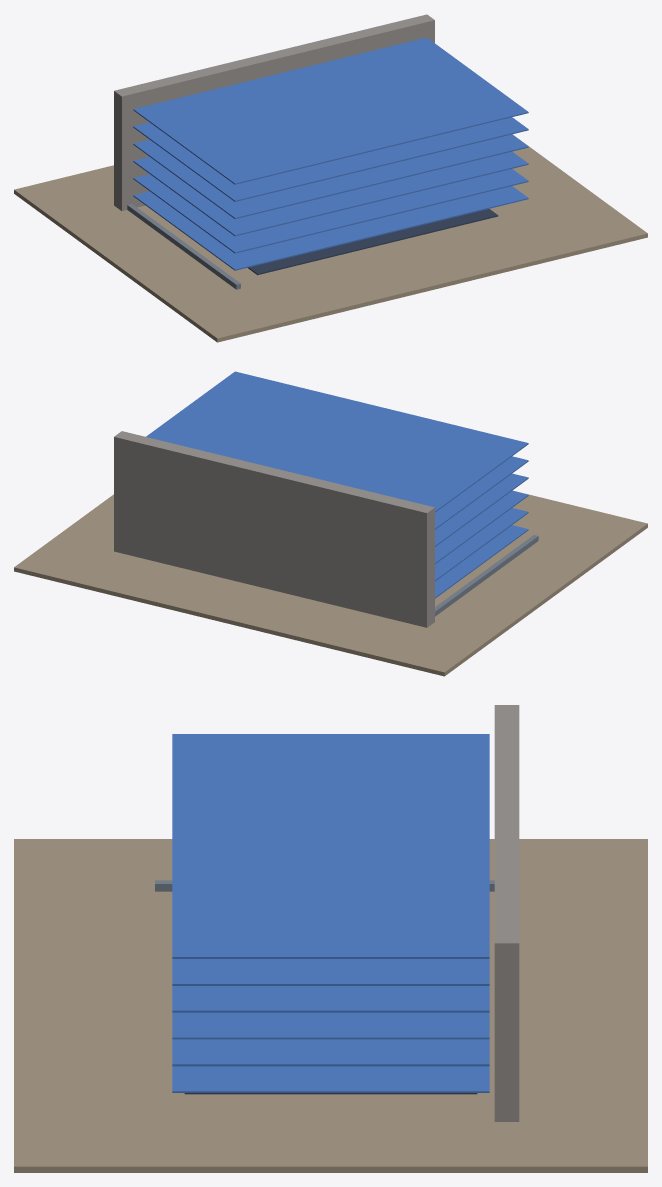
The model's file is stage_08_bands.glb.
3 renders of one model, top to bottom at view 1: azimuth 30°, elevation 25°; view 2: azimuth 150°, elevation 25°; view 3: azimuth 270°, elevation 25°, orthographic. The views are drawn at different scales.
Visible parts, largest first — view 1: world; view 2: world; view 3: world.
Boxes of the visible parts, box(x1,y1,x2,y2) form: world: box(14, 14, 647, 342); world: box(14, 371, 647, 676); world: box(14, 705, 647, 1172).
Size of the model in its own units: 11 by 2.9 by 9.
